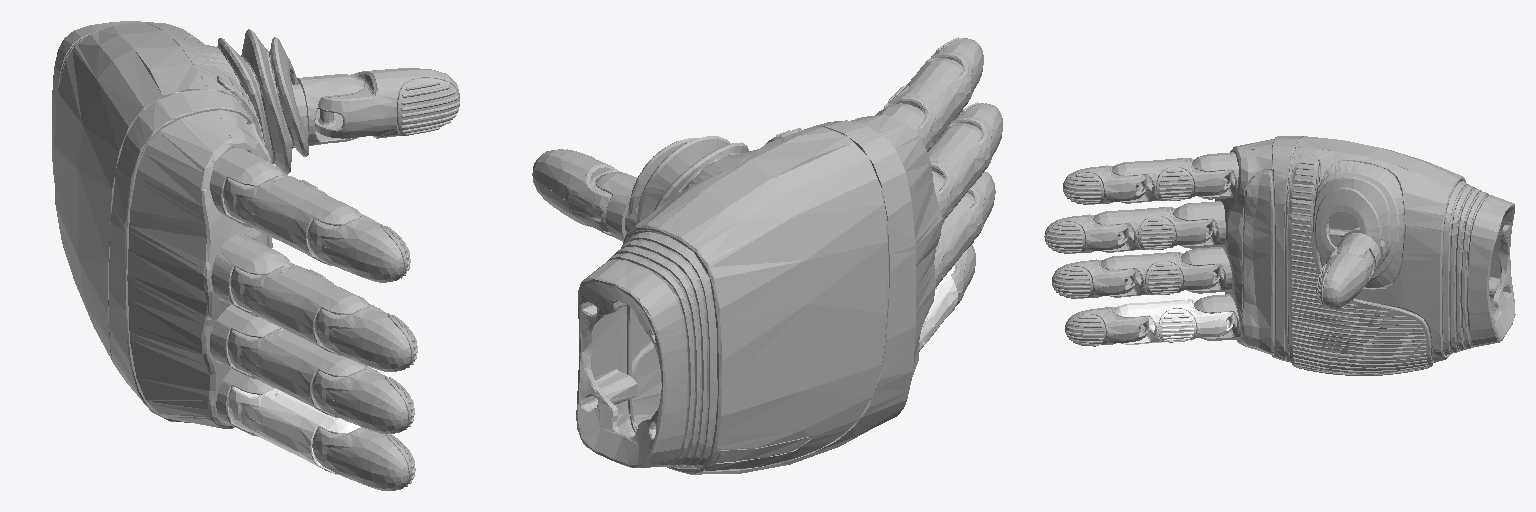
URDF robot description (walkerx_rhand):
<?xml version="1.0" encoding="utf-8"?>

<robot
  name="walkerx_rhand">
  <link
    name="base_link">
    <inertial>
      <origin
        xyz="-0.377843 -0.239831 -0.010788"
        rpy="0 0 0" />
      <mass
        value="0.593" />
      <inertia
        ixx="1.30E-03"
        ixy="2.47E-04"
        ixz="-1.57E-05"
        iyy="5.23E-04"
        iyz="-1.29E-05"
        izz="1.06E-03" />
    </inertial>
     <visual>
      <origin
        xyz="0 0 0"
        rpy="0 0 0" />
      <geometry>
        <mesh
          filename="package://walkerx_rhand/meshes/base.obj" />
      </geometry>
      <material
        name="">
        <color
          rgba="0.75294 0.75294 0.75294 1" />
      </material>
    </visual>
    <collision>
      <origin
        xyz="-0.378 -0.24 -0.009"
        rpy="0 0 -0.261799" />
      <geometry>
        <box size = "0.05 0.14 0.1" />
      </geometry>
    </collision>
  </link>
  <link
    name="rfirstfinger1_1">
    <inertial>
      <origin
        xyz="0.016949 -0.005689 -0.0016081"
        rpy="0 0 0" />
      <mass
        value="0.001" />
      <inertia
        ixx="1.0E-09"
        ixy="1.0E-09"
        ixz="1.0E-09"
        iyy="1.0E-09"
        iyz="1.0E-09"
        izz="1.0E-09" />
    </inertial>    
    <collision>
      <origin
        xyz="0 0 0"
        rpy="0 0 0" />
      <geometry>
        <sphere radius="0.001" />
      </geometry>
    </collision>
  </link>
  <joint
    name="rfirst1_1"
    type="revolute">
    <origin
      xyz="-0.36621 -0.23404 0.01213"
      rpy="0 0 0" />
    <parent
      link="base_link" />
    <child
      link="rfirstfinger1_1" />
    <axis
      xyz="-0.068161 -0.99767 0" />
    <limit
      lower="-3.14"
      upper="3.14"
      effort="10"
      velocity="0.1" />
  </joint>
  <link
    name="rfirstfinger1_2">
    <inertial>
      <origin
        xyz="0.016949 -0.005689 -0.0016081"
        rpy="0 0 0" />
      <mass
        value="0.001" />
      <inertia
        ixx="1.0E-09"
        ixy="1.0E-09"
        ixz="1.0E-09"
        iyy="1.0E-09"
        iyz="1.0E-09"
        izz="1.0E-09" />
    </inertial>    
    <collision>
      <origin
        xyz="0 0 0"
        rpy="0 0 0" />
      <geometry>
        <sphere radius="0.001" />
      </geometry>
    </collision>
  </link>
  <joint
    name="rfirst1_2"
    type="revolute">
    <origin
      xyz="0 0 0"
      rpy="0 0 0" />
    <parent
      link="rfirstfinger1_1" />
    <child
      link="rfirstfinger1_2" />
    <axis
      xyz="0.99767 -0.068161 0" />
    <limit
      lower="-3.14"
      upper="3.14"
      effort="10"
      velocity="0.1" />
  </joint>
  <link
    name="rfirstfinger1_3">
    <inertial>
      <origin
        xyz="0.016949 -0.005689 -0.0016081"
        rpy="0 0 0" />
      <mass
        value="0.033" />
      <inertia
        ixx="2.55E-06"
        ixy="-1.98E-06"
        ixz="1.06E-06"
        iyy="1.24E-05"
        iyz="-3.55E-07"
        izz="1.27E-05" />
    </inertial>
    <visual>
      <origin
        xyz="0.36621 0.23404 -0.01213"
        rpy="0 0 0" />
      <geometry>
        <mesh
          filename="package://meshes/rfirstfinger1.obj" />
      </geometry>
      <material
        name="">
        <color
          rgba="0.75294 0.75294 0.75294 1" />
      </material>
    </visual>
    <collision>
      <origin
        xyz="0.03021 -0.00796 -0.00013"
        rpy="1.5708 0 1.2" />
      <geometry>
        <cylinder radius="0.011" length="0.046" />
      </geometry>
    </collision>
  </link>
  <joint
    name="rfirst1_3"
    type="revolute">
    <origin
      xyz="0 0 0"
      rpy="0 0 0" />
    <parent
      link="rfirstfinger1_2" />
    <child
      link="rfirstfinger1_3" />
    <axis
      xyz="0 0 1" />
    <limit
      lower="-3.14"
      upper="3.14"
      effort="10"
      velocity="0.1" />
  </joint>
  <link
    name="rfirstfinger2">
    <inertial>
      <origin
        xyz="0.012578 -0.0046607 -0.0095932"
        rpy="0 0 0" />
      <mass
        value="0.012856" />
      <inertia
        ixx="9.85E-07"
        ixy="-4.99E-07"
        ixz="-1.00E-09"
        iyy="2.29E-06"
        iyz="0.0"
        izz="2.48E-06" />
    </inertial>
    <visual>
      <origin
        xyz="0.318125 0.247745 -0.02173"
        rpy="0 0 0" />
      <geometry>
        <mesh
          filename="package://meshes/rfirstfinger2.obj" />
      </geometry>
      <material
        name="">
        <color
          rgba="0.75294 0.75294 0.75294 1" />
      </material>
    </visual>
    <collision>
      <origin
        xyz="0.014125 -0.00426 -0.00973"
        rpy="1.5708 0 1.2" />
      <geometry>
        <cylinder radius="0.011" length="0.033" />
      </geometry>
    </collision>
  </link>
  <joint
    name="rfirst2"
    type="revolute">
    <origin
      xyz="0.048085 -0.013705 0.0096"
      rpy="0 0 0" />
    <parent
      link="rfirstfinger1_3" />
    <child
      link="rfirstfinger2" />
    <axis
      xyz="0 0 1" />
    <limit
      lower="-3.14"
      upper="3.14"
      effort="10"
      velocity="0.1" />
  </joint>
  <link
    name="rsecondfinger1">
    <inertial>
      <origin
        xyz="0.0016093 -0.0062649 0.0089807"
        rpy="0 0 0" />
      <mass
        value="0.02621" />
      <inertia
        ixx="1.25E-05"
        ixy="-1.71E-06"
        ixz="3.00E-09"
        iyy="1.34E-06"
        iyz="-1.20E-08"
        izz="1.28E-05" />
    </inertial>
    <visual>
      <origin
        xyz="0.38785 0.3148 -0.01693"
        rpy="0 0 0" />
      <geometry>
        <mesh
          filename="package://meshes/rsecondfinger1.obj" />
      </geometry>
      <material
        name="">
        <color
          rgba="0.75294 0.75294 0.75294 1" />
      </material>
    </visual>
    <collision>
      <origin
        xyz="0.00385 -0.0202 0.008982"
        rpy="1.5708 0 0.18" />
      <geometry>
        <cylinder radius="0.011" length="0.0505" />
      </geometry>
    </collision>
  </link>
  <joint
    name="rsecond1"
    type="revolute">
    <origin
      xyz="-0.38785 -0.3148 0.01693"
      rpy="0 0 0" />
    <parent
      link="base_link" />
    <child
      link="rsecondfinger1" />
    <axis
      xyz="0 0 -1" />
    <limit
      lower="-3.14"
      upper="3.14"
      effort="10"
      velocity="0.1" />
  </joint>
  <link
    name="rsecondfinger2">
    <inertial>
      <origin
        xyz="0.0013967 -0.0098864 -0.0085299"
        rpy="0 0 0" />
      <mass
        value="0.0077518" />
      <inertia
        ixx="9.79E-07"
        ixy="-1.17E-07"
        ixz="1.00E-09"
        iyy="3.68E-07"
        iyz="-2.00E-09"
        izz="1.00E-06" />
    </inertial>
    <visual>
      <origin
        xyz="0.3811324 0.353725 -0.03443"
        rpy="0 0 0" />
      <geometry>
        <mesh
          filename="package://meshes/rsecondfinger2.obj" />
      </geometry>
      <material
        name="">
        <color
          rgba="0.75294 0.75294 0.75294 1" />
      </material>
    </visual>
    <collision>
      <origin
        xyz="0.002232 -0.00977 -0.00853"
        rpy="1.5708 0 0.18" />
      <geometry>
        <cylinder radius="0.011" length="0.034" />
      </geometry>
    </collision>
  </link>
  <joint
    name="rsecond2"
    type="revolute">
    <origin
      xyz="0.0067176 -0.038925 0.0175"
      rpy="0 0 0" />
    <parent
      link="rsecondfinger1" />
    <child
      link="rsecondfinger2" />
    <axis
      xyz="0 0 -1" />
    <limit
      lower="-3.14"
      upper="3.14"
      effort="10"
      velocity="0.1" />
  </joint>
  <link
    name="rthirdfinger1">
    <inertial>
      <origin
        xyz="0.0016093 -0.0062648 0.0089807"
        rpy="0 0 0" />
      <mass
        value="0.02621" />
      <inertia
        ixx="1.25E-05"
        ixy="-1.71E-06"
        ixz="3.00E-09"
        iyy="1.34E-06"
        iyz="-1.20E-08"
        izz="1.28E-05" />
    </inertial>
    <visual>
      <origin
        xyz="0.39021 0.32349 0.0097698"
        rpy="0 0 0" />
      <geometry>
        <mesh
          filename="package://meshes/rthirdfinger1.obj" />
      </geometry>
      <material
        name="">
        <color
          rgba="0.75294 0.75294 0.75294 1" />
      </material>
    </visual>
    <collision>
      <origin
        xyz="0.00321 -0.01951 0.008982"
        rpy="1.5708 0 0.18" />
      <geometry>
        <cylinder radius="0.011" length="0.0505" />
      </geometry>
    </collision>
  </link>
  <joint
    name="rthird1"
    type="revolute">
    <origin
      xyz="-0.39021 -0.32349 -0.0097698"
      rpy="0 0 0" />
    <parent
      link="base_link" />
    <child
      link="rthirdfinger1" />
    <axis
      xyz="0 0 -1" />
    <limit
      lower="-3.14"
      upper="3.14"
      effort="10"
      velocity="0.1" />
  </joint>
  <link
    name="rthirdfinger2">
    <inertial>
      <origin
        xyz="0.00139671105362882 -0.00988639056498997 -0.00852984415019046"
        rpy="0 0 0" />
      <mass
        value="0.00775190710725793" />
      <inertia
        ixx="9.79E-07"
        ixy="-1.17E-07"
        ixz="1.00E-09"
        iyy="3.68E-07"
        iyz="-2.00E-09"
        izz="1.00E-06" />
    </inertial>
    <visual>
      <origin
        xyz="0.3834924 0.362415 -0.0077302"
        rpy="0 0 0" />
      <geometry>
        <mesh
          filename="package://meshes/rthirdfinger2.obj" />
      </geometry>
      <material
        name="">
        <color
          rgba="0.752941176470588 0.752941176470588 0.752941176470588 1" />
      </material>
    </visual>
    <collision>
      <origin
        xyz="0.001399 -0.00988 -0.00853"
        rpy="1.5708 0 0.18" />
      <geometry>
        <cylinder radius="0.011" length="0.034" />
      </geometry>
    </collision>
  </link>
  <joint
    name="rthird2"
    type="revolute">
    <origin
      xyz="0.0067176 -0.038925 0.0175"
      rpy="0 0 0" />
    <parent
      link="rthirdfinger1" />
    <child
      link="rthirdfinger2" />
    <axis
      xyz="0 0 -1" />
    <limit
      lower="-3.14"
      upper="3.14"
      effort="10"
      velocity="0.1" />
  </joint>
  <link
    name="rfourthfinger1">
    <inertial>
      <origin
        xyz="0.0016091 -0.0062651 0.0089807"
        rpy="0 0 0" />
      <mass
        value="0.02621" />
      <inertia
        ixx="1.25E-05"
        ixy="-1.71E-06"
        ixz="3.00E-09"
        iyy="1.34E-06"
        iyz="-1.20E-08"
        izz="1.28E-05" />
    </inertial>
    <visual>
      <origin
        xyz="0.38926 0.32001 0.03277"
        rpy="0 0 0" />
      <geometry>
        <mesh
          filename="package://meshes/rfourthfinger1.obj" />
      </geometry>
      <material
        name="">
        <color
          rgba="0.75294 0.75294 0.75294 1" />
      </material>
    </visual>
    <collision>
      <origin
        xyz="0.00326 -0.01899 0.008982"
        rpy="1.5708 0 0.18" />
      <geometry>
        <cylinder radius="0.011" length="0.0505" />
      </geometry>
    </collision>
  </link>
  <joint
    name="rfourth1"
    type="revolute">
    <origin
      xyz="-0.38926 -0.32001 -0.03277"
      rpy="0 0 0" />
    <parent
      link="base_link" />
    <child
      link="rfourthfinger1" />
    <axis
      xyz="0 0 -1" />
    <limit
      lower="-3.14"
      upper="3.14"
      effort="10"
      velocity="0.1" />
  </joint>
  <link
    name="rfourthfinger2">
    <inertial>
      <origin
        xyz="0.0014007 -0.0098858 -0.0085299"
        rpy="0 0 0" />
      <mass
        value="0.0077518" />
      <inertia
        ixx="9.79E-07"
        ixy="-1.17E-07"
        ixz="1.00E-09"
        iyy="3.68E-07"
        iyz="-2.00E-09"
        izz="1.00E-06" />
    </inertial>
    <visual>
      <origin
        xyz="0.3825424 0.358935 0.01527"
        rpy="0 0 0" />
      <geometry>
        <mesh
          filename="package://meshes/rfourthfinger2.obj" />
      </geometry>
      <material
        name="">
        <color
          rgba="0.75294 0.75294 0.75294 1" />
      </material>
    </visual>
    <collision>
      <origin
        xyz="0.001397 -0.00989 -0.00853"
        rpy="1.5708 0 0.18" />
      <geometry>
        <cylinder radius="0.011" length="0.034" />
      </geometry>
    </collision>
  </link>
  <joint
    name="rfourth2"
    type="revolute">
    <origin
      xyz="0.0067176 -0.038925 0.0175"
      rpy="0 0 0" />
    <parent
      link="rfourthfinger1" />
    <child
      link="rfourthfinger2" />
    <axis
      xyz="0 0 -1" />
    <limit
      lower="-3.14"
      upper="3.14"
      effort="10"
      velocity="0.1" />
  </joint>
  <link
    name="rfifthfinger1">
    <inertial>
      <origin
        xyz="0.001609 -0.006244 0.008981"
        rpy="0 0 0" />
      <mass
        value="0.026" />
      <inertia
        ixx="1.25E-05"
        ixy="-1.71E-06"
        ixz="3.00E-09"
        iyy="1.34E-06"
        iyz="-1.20E-08"
        izz="1.28E-05" />
    </inertial>
    <visual>
      <origin
        xyz="0.3855 0.31378 0.05577"
        rpy="0 0 0" />
      <geometry>
        <mesh
          filename="package://meshes/rfifthfinger1.obj" />
      </geometry>
      <material
        name="">
        <color
          rgba="1 1 1 1" />
      </material>
    </visual>
    <collision>
      <origin
        xyz="0.0035 -0.01922 0.008982"
        rpy="1.5708 0 0.18" />
      <geometry>
        <cylinder radius="0.011" length="0.0505" />
      </geometry>
    </collision>
  </link>
  <joint
    name="rfifth1"
    type="revolute">
    <origin
      xyz="-0.3855 -0.31378 -0.05577"
      rpy="0 0 0" />
    <parent
      link="base_link" />
    <child
      link="rfifthfinger1" />
    <axis
      xyz="0 0 -1" />
    <limit
      lower="-3.14"
      upper="3.14"
      effort="10"
      velocity="0.1" />
  </joint>
  <link
    name="rfifthfinger2">
    <inertial>
      <origin
        xyz="0.0014006 -0.0098858 -0.0085299"
        rpy="0 0 0" />
      <mass
        value="0.0077518" />
      <inertia
        ixx="9.79E-07"
        ixy="-1.17E-07"
        ixz="1.00E-09"
        iyy="3.68E-07"
        iyz="-2.00E-09"
        izz="1.00E-06" />
    </inertial>
    <visual>
      <origin
        xyz="0.3787824 0.352705 0.03827"
        rpy="0 0 0" />
      <geometry>
        <mesh
          filename="package://meshes/rfifthfinger2.obj" />
      </geometry>
      <material
        name="">
        <color
          rgba="0.75294 0.75294 0.75294 1" />
      </material>
    </visual>
    <collision>
      <origin
        xyz="0.001404 -0.00989 -0.00853"
        rpy="1.5708 0 0.18" />
      <geometry>
        <cylinder radius="0.011" length="0.033" />
      </geometry>
    </collision>
  </link>
  <joint
    name="rfifth2"
    type="revolute">
    <origin
      xyz="0.0067176 -0.038925 0.0175"
      rpy="0 0 0" />
    <parent
      link="rfifthfinger1" />
    <child
      link="rfifthfinger2" />
    <axis
      xyz="0 0 -1" />
    <limit
      lower="-3.14"
      upper="3.14"
      effort="10"
      velocity="0.1" />
  </joint>
</robot>

--- What the picture shows (computed from the rendered views, not written in the file) ---
Views: 3 orthographic renders of the robot side by side, from view 1: azimuth 30°, elevation 25°; view 2: azimuth 150°, elevation 25°; view 3: azimuth 270°, elevation 25°.
Robot: walkerx_rhand — 13 links, 12 joints (12 revolute); root link base_link; default pose: all joints at 0.
Links seen in each view (by area): view 1: base_link, rfirstfinger2, rthirdfinger1, rsecondfinger1, rfourthfinger1, rfifthfinger1, rsecondfinger2, rfourthfinger2, rthirdfinger2, rfifthfinger2, rfirstfinger1_3; view 2: base_link, rfirstfinger2, rsecondfinger1, rthirdfinger1, rfourthfinger1, rfirstfinger1_3, rsecondfinger2, rthirdfinger2, rfifthfinger1, rfourthfinger2, rfifthfinger2; view 3: base_link, rfourthfinger1, rsecondfinger1, rfifthfinger1, rthirdfinger1, rsecondfinger2, rthirdfinger2, rfourthfinger2, rfifthfinger2, rfirstfinger2, rfirstfinger1_3.
Link boxes in pixels (bbox=[...]): base_link: bbox=[52, 21, 308, 436]; rfirstfinger2: bbox=[315, 68, 459, 138]; rthirdfinger1: bbox=[230, 263, 368, 355]; rsecondfinger1: bbox=[223, 173, 360, 266]; rfourthfinger1: bbox=[227, 328, 365, 417]; rfifthfinger1: bbox=[228, 386, 360, 474]; rsecondfinger2: bbox=[307, 214, 410, 282]; rfourthfinger2: bbox=[312, 365, 414, 433]; rthirdfinger2: bbox=[315, 303, 417, 371]; rfifthfinger2: bbox=[312, 427, 415, 490]; rfirstfinger1_3: bbox=[291, 74, 364, 148]; base_link: bbox=[576, 103, 945, 474]; rfirstfinger2: bbox=[532, 149, 619, 231]; rsecondfinger1: bbox=[884, 58, 965, 151]; rthirdfinger1: bbox=[928, 123, 984, 221]; rfourthfinger1: bbox=[934, 193, 976, 286]; rfirstfinger1_3: bbox=[595, 172, 673, 241]; rsecondfinger2: bbox=[925, 37, 983, 106]; rthirdfinger2: bbox=[948, 102, 1002, 172]; rfifthfinger1: bbox=[919, 265, 957, 351]; rfourthfinger2: bbox=[967, 171, 995, 238]; rfifthfinger2: bbox=[951, 245, 975, 305]; base_link: bbox=[1173, 136, 1515, 375]; rfourthfinger1: bbox=[1101, 252, 1220, 297]; rsecondfinger1: bbox=[1112, 158, 1231, 203]; rfifthfinger1: bbox=[1114, 299, 1233, 344]; rthirdfinger1: bbox=[1093, 207, 1213, 252]; rsecondfinger2: bbox=[1063, 165, 1146, 204]; rthirdfinger2: bbox=[1044, 214, 1128, 253]; rfourthfinger2: bbox=[1052, 259, 1135, 298]; rfifthfinger2: bbox=[1065, 307, 1148, 346]; rfirstfinger2: bbox=[1316, 249, 1374, 309]; rfirstfinger1_3: bbox=[1337, 227, 1391, 271].
Bounding box of the posed robot: 0.1329 × 0.2226 × 0.1113 m (x, y, z).
11 mesh visuals loaded from 11 distinct referenced files (11 OBJ).
